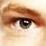eye: (20, 20, 31, 28)
